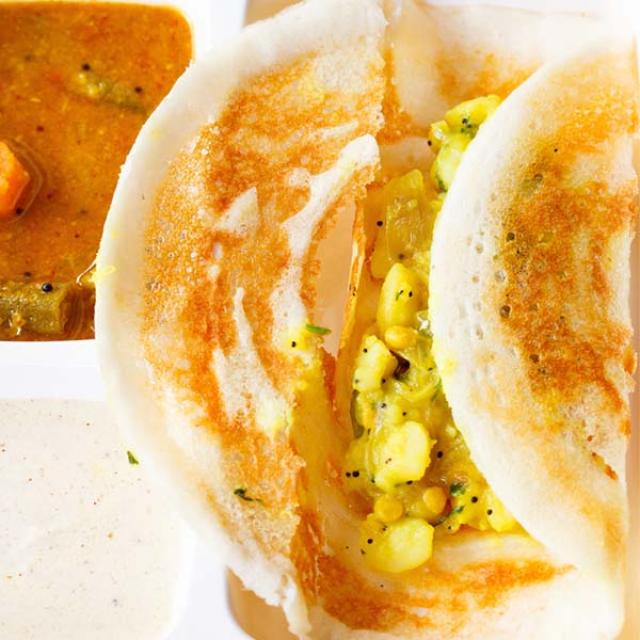chutney: (0, 391, 195, 639)
dosa: (301, 0, 639, 637)
